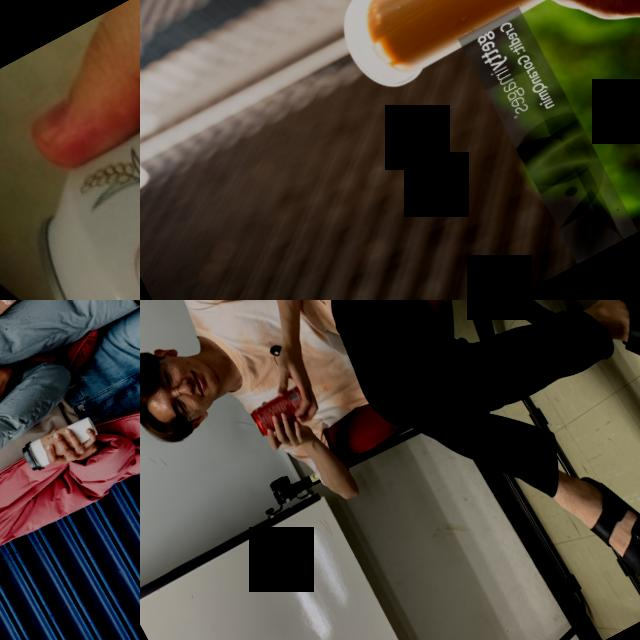can: (0, 0, 140, 300), (244, 381, 312, 438)
cup: (325, 0, 640, 99), (18, 409, 102, 474), (0, 300, 38, 336)
